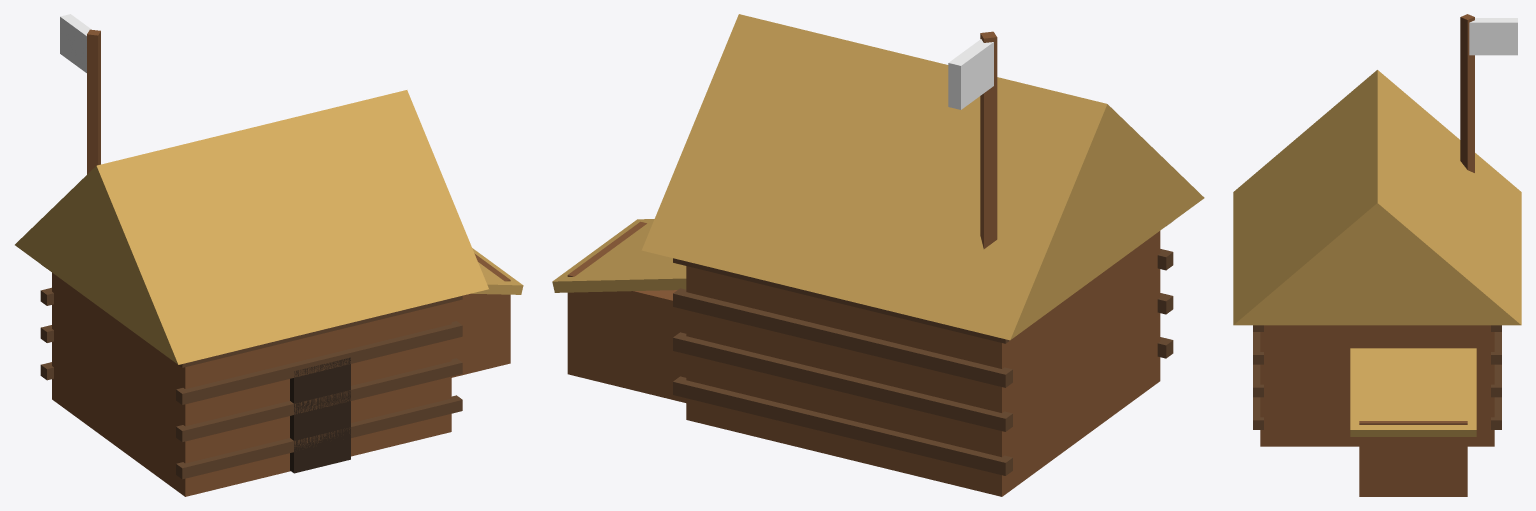
File: hut_b.glb
3 renders of one model, left to right at view 1: azimuth 30°, elevation 25°; view 2: azimuth 150°, elevation 25°; view 3: azimuth 270°, elevation 25°, orthographic. The views are drawn at different scales.
Parts seen in each view (by area): view 1: hut_b; view 2: hut_b; view 3: hut_b.
Part boxes in pixels (bbox=[...]): hut_b: bbox=[15, 14, 523, 496]; hut_b: bbox=[552, 14, 1204, 496]; hut_b: bbox=[1233, 14, 1521, 496].
Size of the model in its own units: 2.32 by 2 by 1.6.
